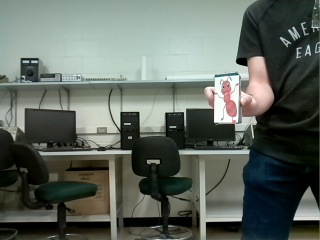Happy: (214, 76, 239, 123)
